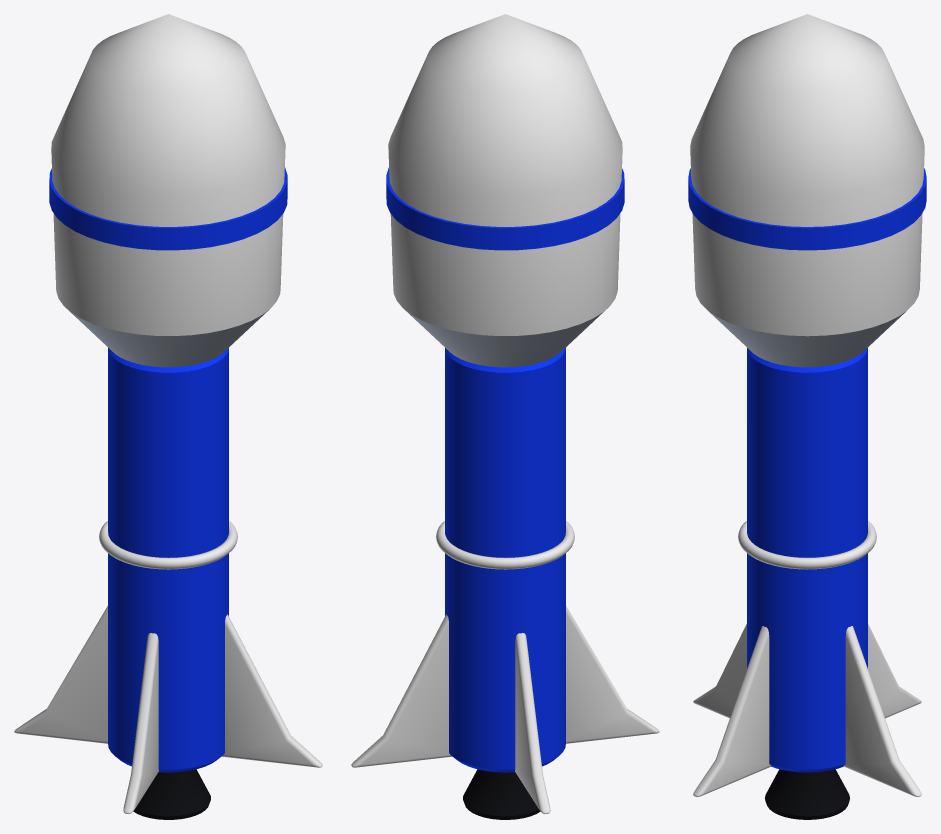
Rendered from Rocket_17_Hammerhead.obj.
3 renders of one model, left to right at view 1: azimuth 30°, elevation 25°; view 2: azimuth 150°, elevation 25°; view 3: azimuth 270°, elevation 25°, orthographic.
Visible parts, largest first — view 1: R17_Fairing, R17_Body, R17_Fin_4, R17_Band, R17_Fin_2, R17_Adapter, R17_Fin_3, R17_Nozzle, R17_Belt; view 2: R17_Fairing, R17_Body, R17_Fin, R17_Band, R17_Fin_3, R17_Adapter, R17_Fin_2, R17_Nozzle, R17_Belt; view 3: R17_Fairing, R17_Body, R17_Band, R17_Fin, R17_Fin_4, R17_Adapter, R17_Nozzle, R17_Belt, R17_Fin_2, R17_Fin_3.
Boxes of the visible parts, x1=… form: R17_Fairing: x1=51, y1=14, x2=285, y2=335; R17_Body: x1=108, y1=348, x2=228, y2=772; R17_Fin_4: x1=222, y1=614, x2=322, y2=767; R17_Band: x1=49, y1=167, x2=287, y2=250; R17_Fin_2: x1=14, y1=606, x2=107, y2=743; R17_Adapter: x1=65, y1=307, x2=269, y2=367; R17_Fin_3: x1=123, y1=633, x2=158, y2=813; R17_Nozzle: x1=133, y1=769, x2=210, y2=819; R17_Belt: x1=99, y1=521, x2=237, y2=569; R17_Fairing: x1=388, y1=14, x2=622, y2=335; R17_Body: x1=445, y1=348, x2=565, y2=772; R17_Fin: x1=351, y1=614, x2=451, y2=767; R17_Band: x1=386, y1=167, x2=624, y2=250; R17_Fin_3: x1=566, y1=606, x2=659, y2=743; R17_Adapter: x1=404, y1=307, x2=608, y2=367; R17_Fin_2: x1=515, y1=633, x2=550, y2=813; R17_Nozzle: x1=463, y1=769, x2=540, y2=819; R17_Belt: x1=436, y1=521, x2=574, y2=569; R17_Fairing: x1=690, y1=14, x2=924, y2=336; R17_Body: x1=747, y1=348, x2=867, y2=772; R17_Band: x1=688, y1=168, x2=926, y2=250; R17_Fin: x1=843, y1=626, x2=921, y2=796; R17_Fin_4: x1=693, y1=626, x2=771, y2=796; R17_Adapter: x1=708, y1=311, x2=906, y2=367; R17_Nozzle: x1=765, y1=769, x2=849, y2=819; R17_Belt: x1=738, y1=521, x2=876, y2=569; R17_Fin_2: x1=868, y1=624, x2=921, y2=718; R17_Fin_3: x1=693, y1=624, x2=746, y2=718.
Bounding box in the file's own units: 2.44 × 8.9 × 2.44.
